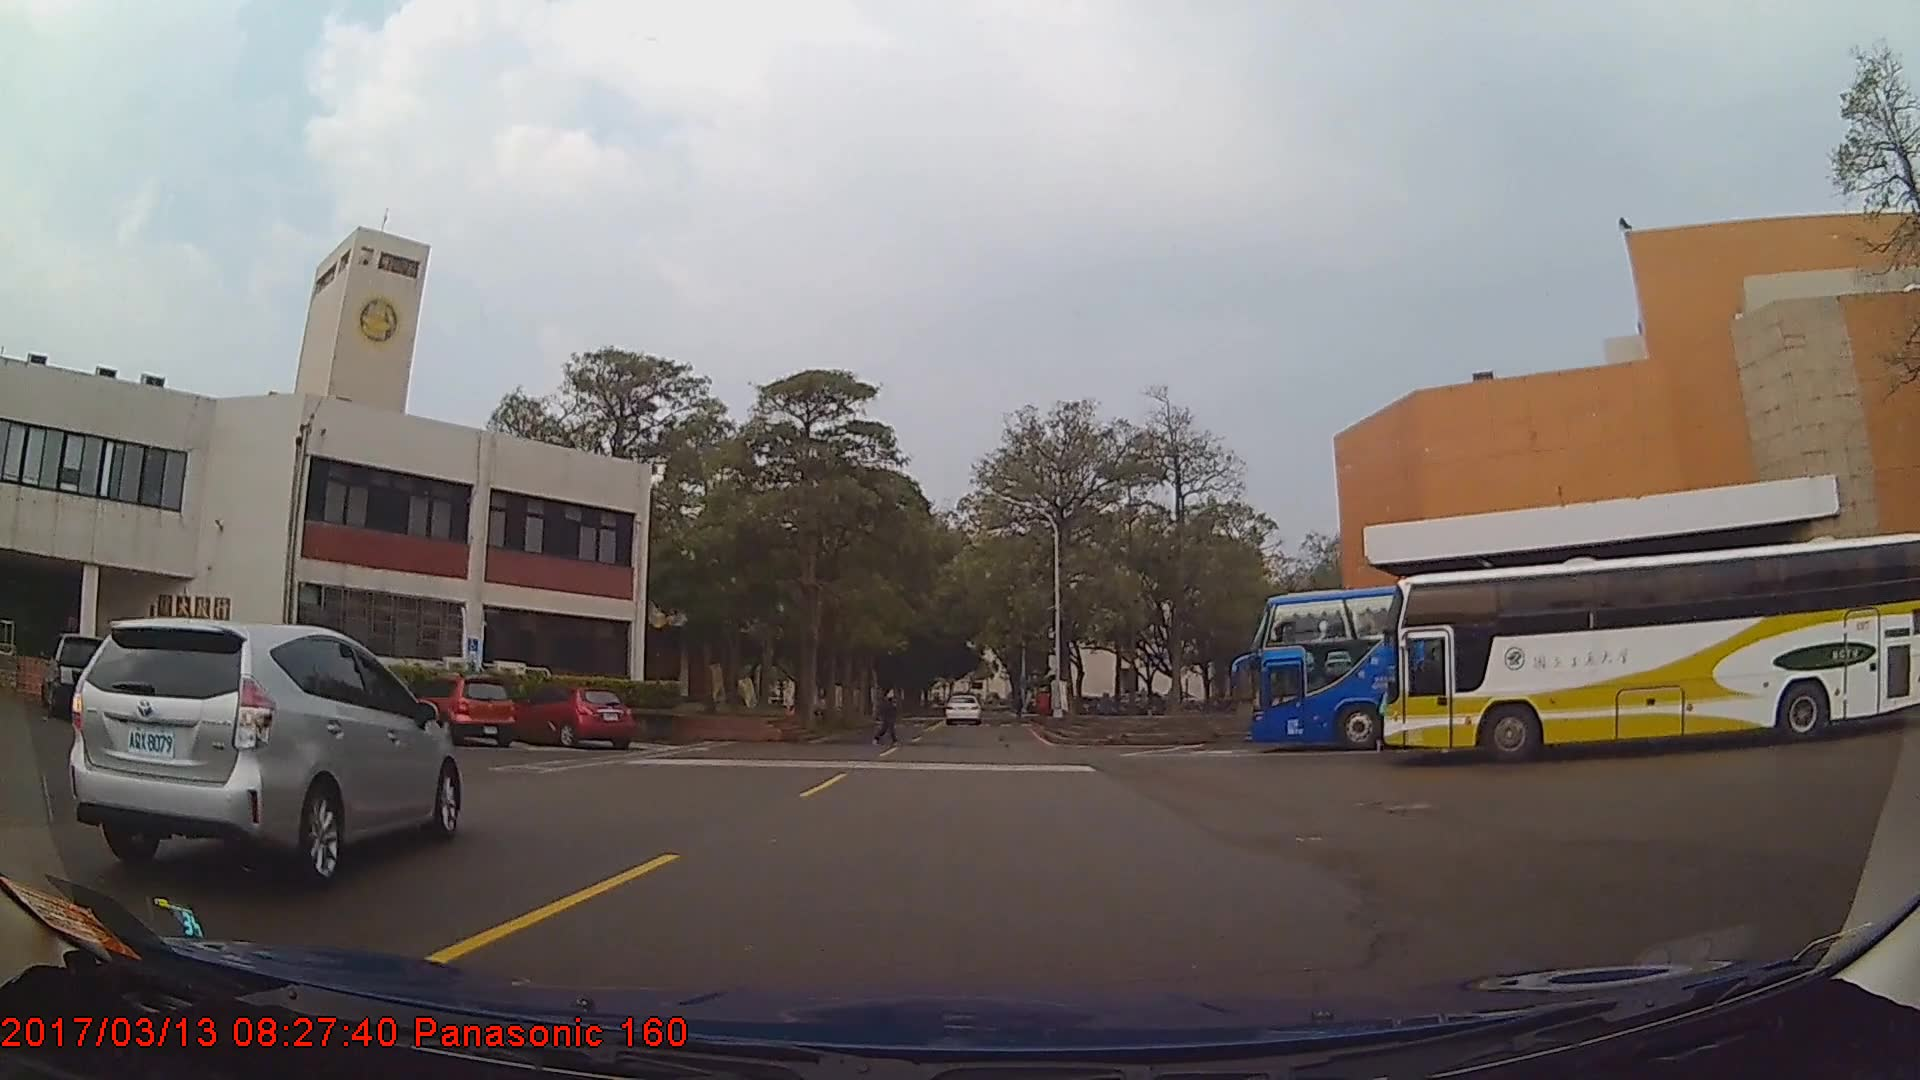pedestrian: (878, 686, 900, 748)
vehicle: (1381, 531, 1920, 766), (67, 615, 459, 874), (1248, 581, 1794, 755), (508, 683, 635, 751), (39, 632, 124, 721), (412, 675, 513, 746), (944, 695, 981, 726)
